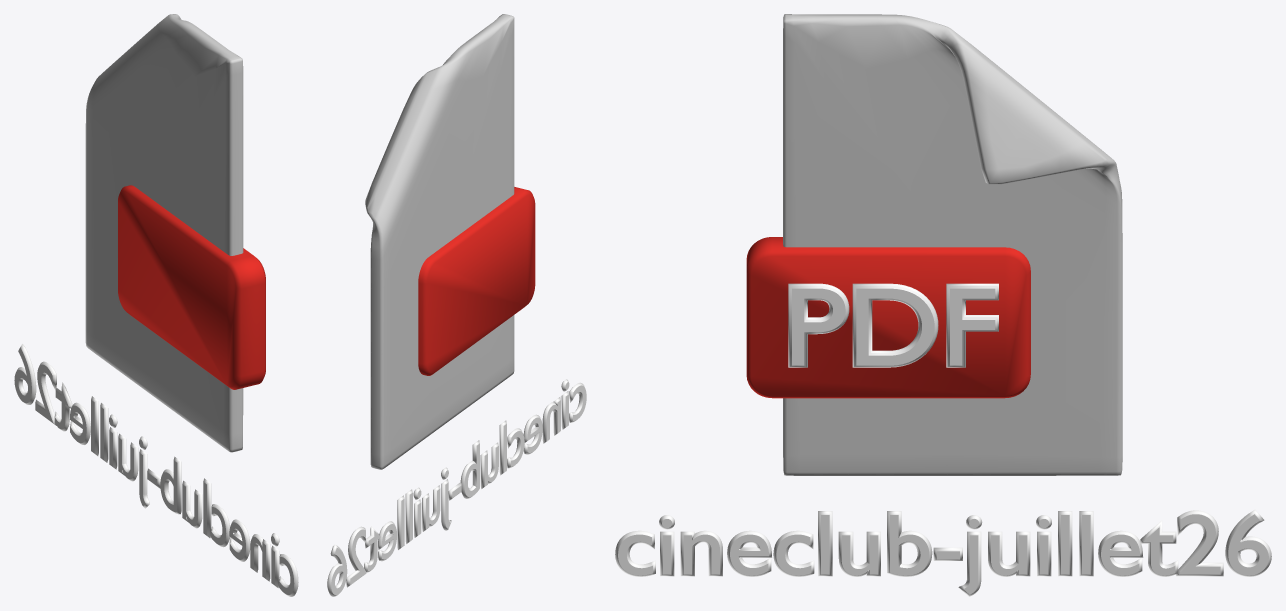
File: PDF_cineClub.fbx
3 views of the same model, side by side, from view 1: azimuth 30°, elevation 25°; view 2: azimuth 150°, elevation 25°; view 3: azimuth 270°, elevation 25° (orthographic). The views are drawn at different scales.
Parts seen in each view (by area): view 1: PDFName.001, Text.014; view 2: PDFName.001, Text.014; view 3: PDFName.001, Text.014.
Part boxes in pixels (x1,y1,x2,y2): PDFName.001: (85,14,265,452); Text.014: (14,344,298,596); PDFName.001: (365,14,535,469); Text.014: (327,379,586,596); PDFName.001: (746,14,1122,475); Text.014: (615,509,1271,596).
Bounding box in the file's own units: 59.34 × 444 × 451.
